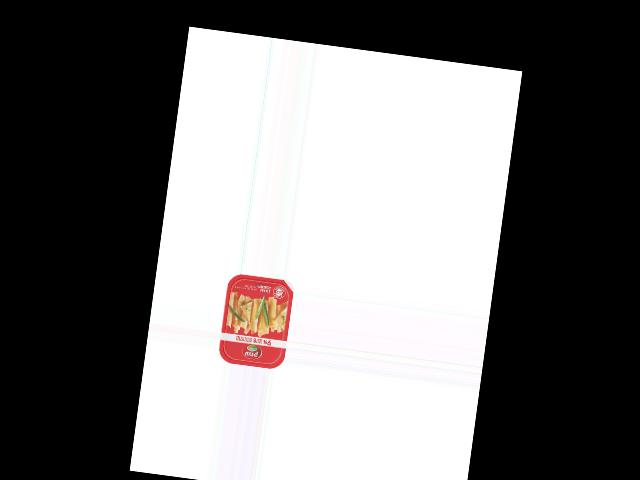cheese: (216, 272, 294, 370)
